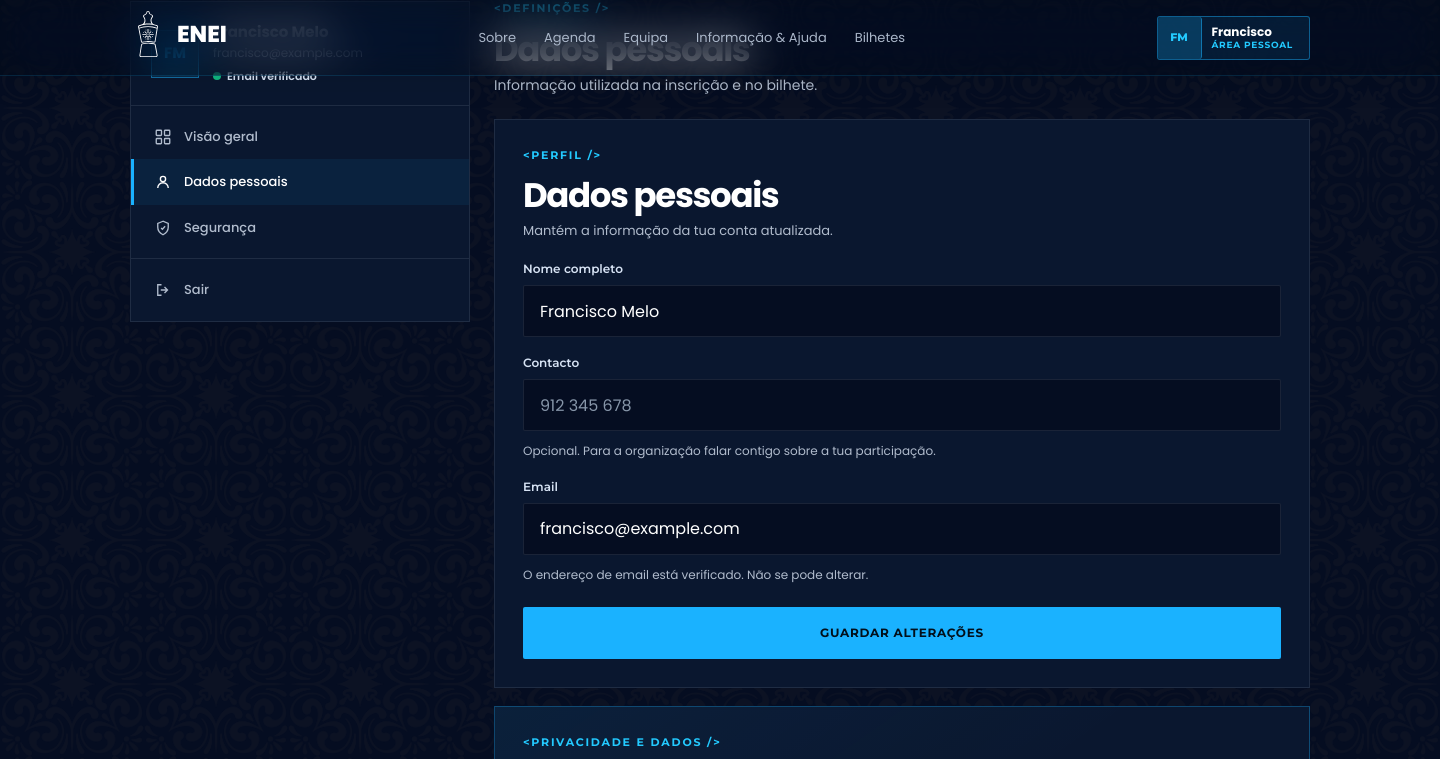
Test case: Dados pessoais: contacto › um número inválido não se envia e mostra a razão junto ao campo
This screenshot has width=1440, height=759.
(page scrolled)
Type "12345" into the field labelled "Contacto" at (902, 405), box [523,379,1281,431]
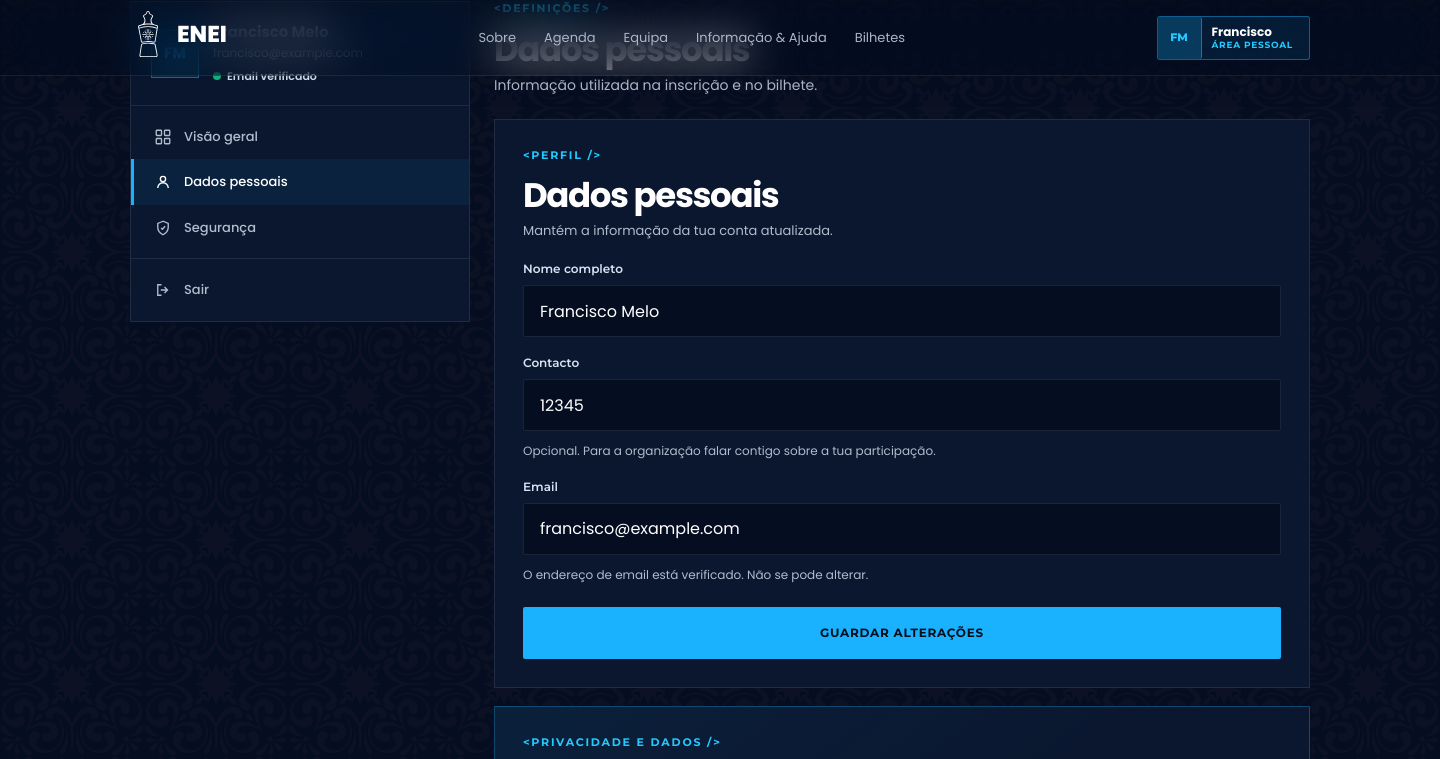
Click the button "Guardar alterações" at (902, 633), box [523,607,1281,659]
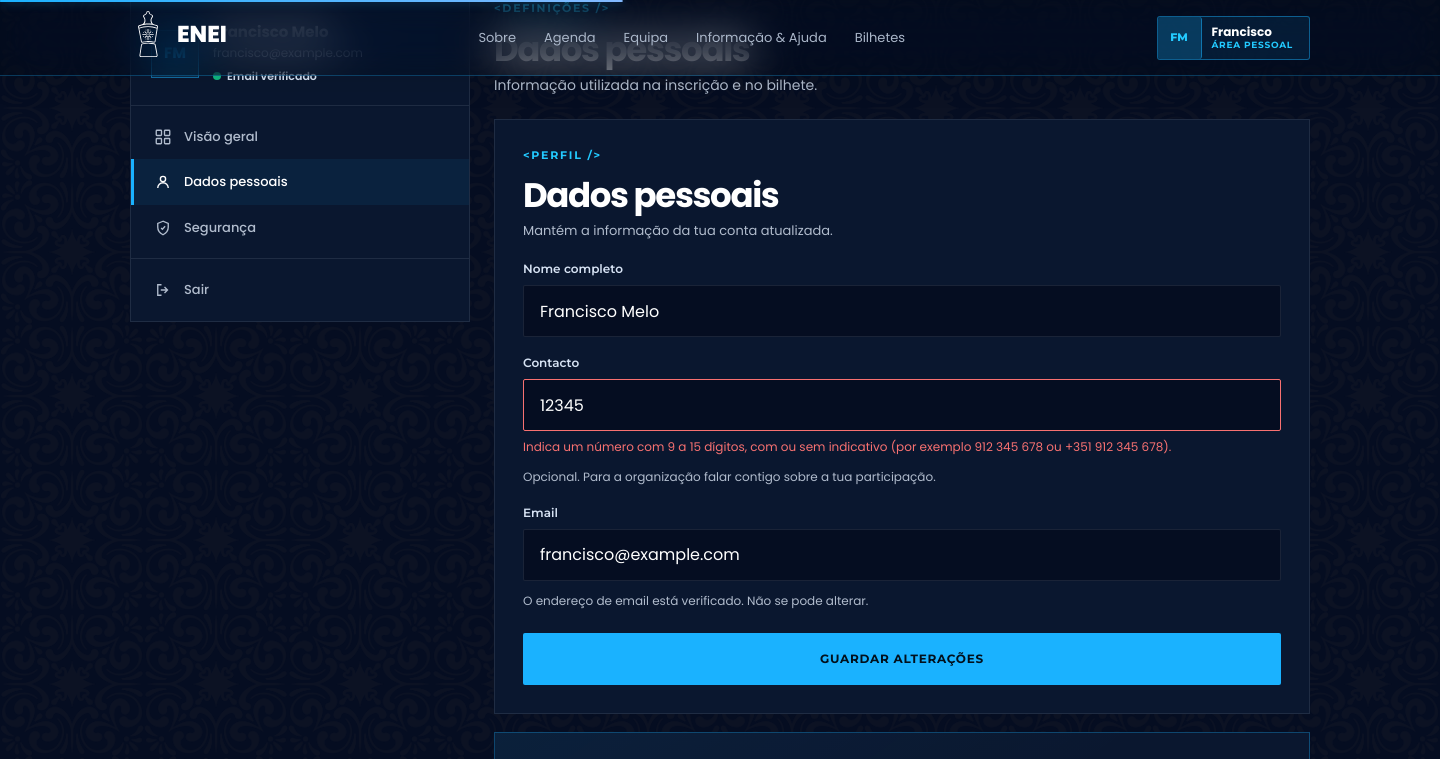
Check: the text "9 a 15 dígitos" is shown, box [523,438,1171,455]
